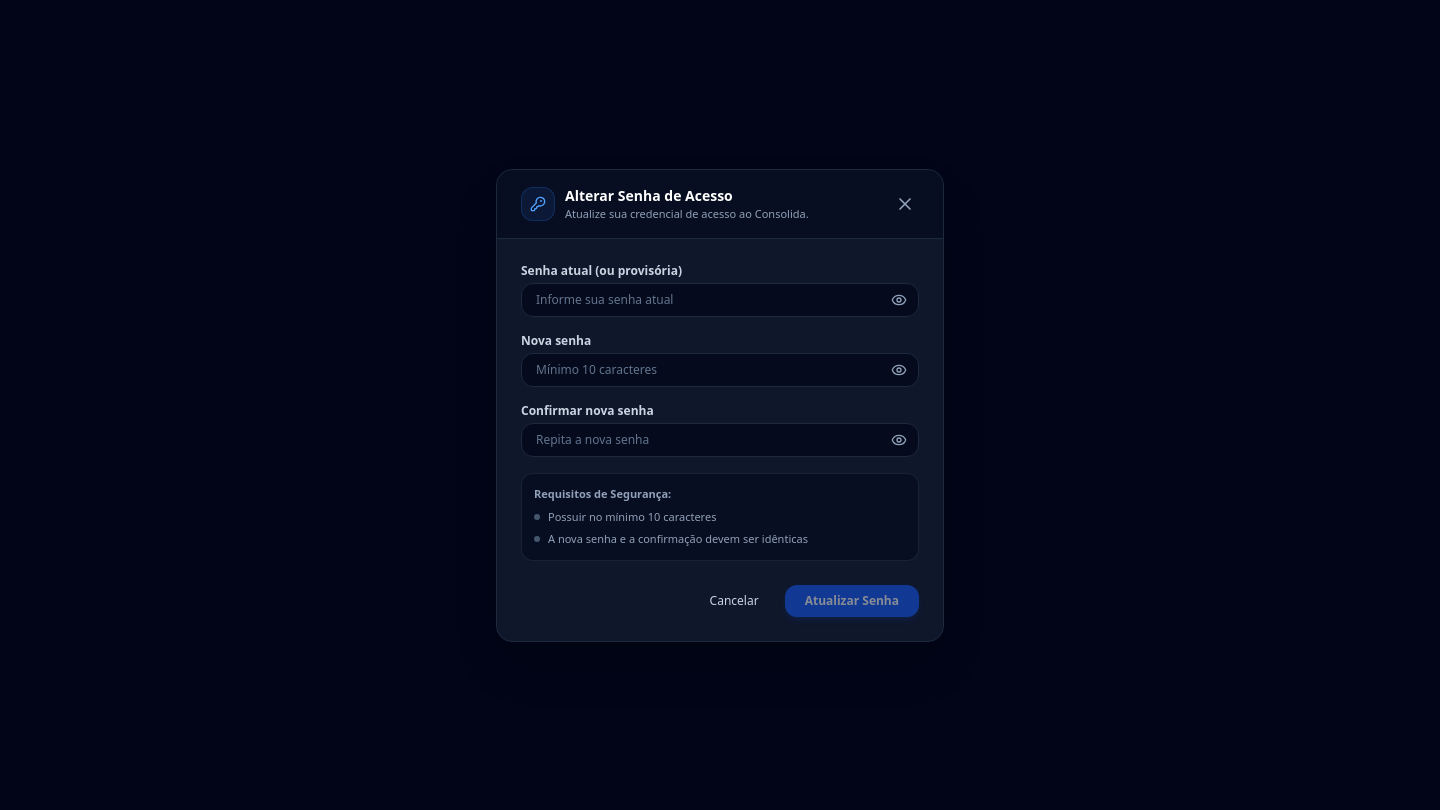
Test: Auditoria Técnica — Testes de Cenários Negativos (Seção 6) › 7. Cenário Negativo: Falha com senha atual incorreta na API deve exibir mensagem correspondente
This screenshot has width=1440, height=810.
In the password field with placeholder "Informe sua senha atual": (720, 300) [521, 283, 919, 317], type "senhaErrada123"
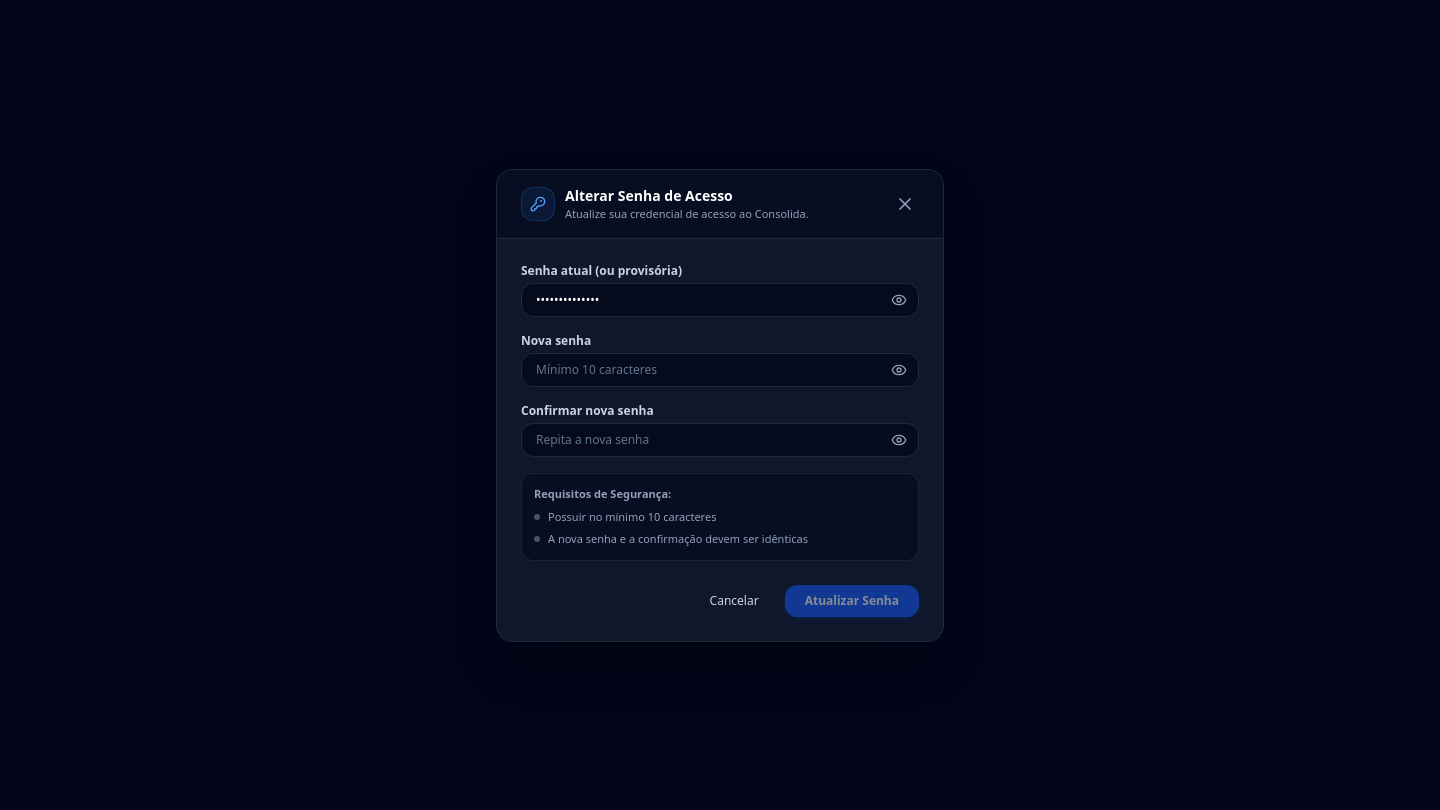
In the password field with placeholder "Mínimo 10 caracteres": (720, 370) [521, 353, 919, 387], type "NovaSenhaForte10!"
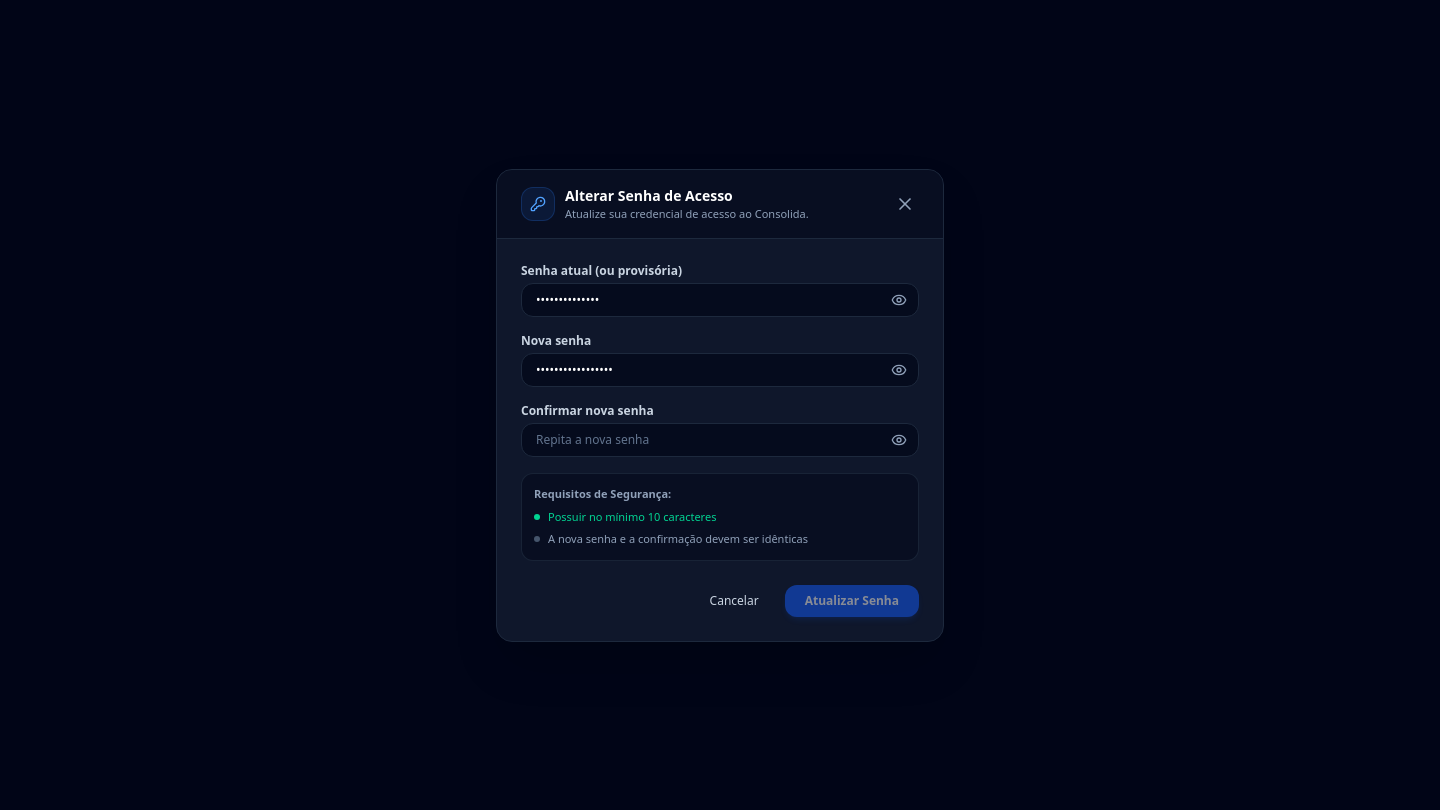
In the password field with placeholder "Repita a nova senha": (720, 440) [521, 423, 919, 457], type "NovaSenhaForte10!"
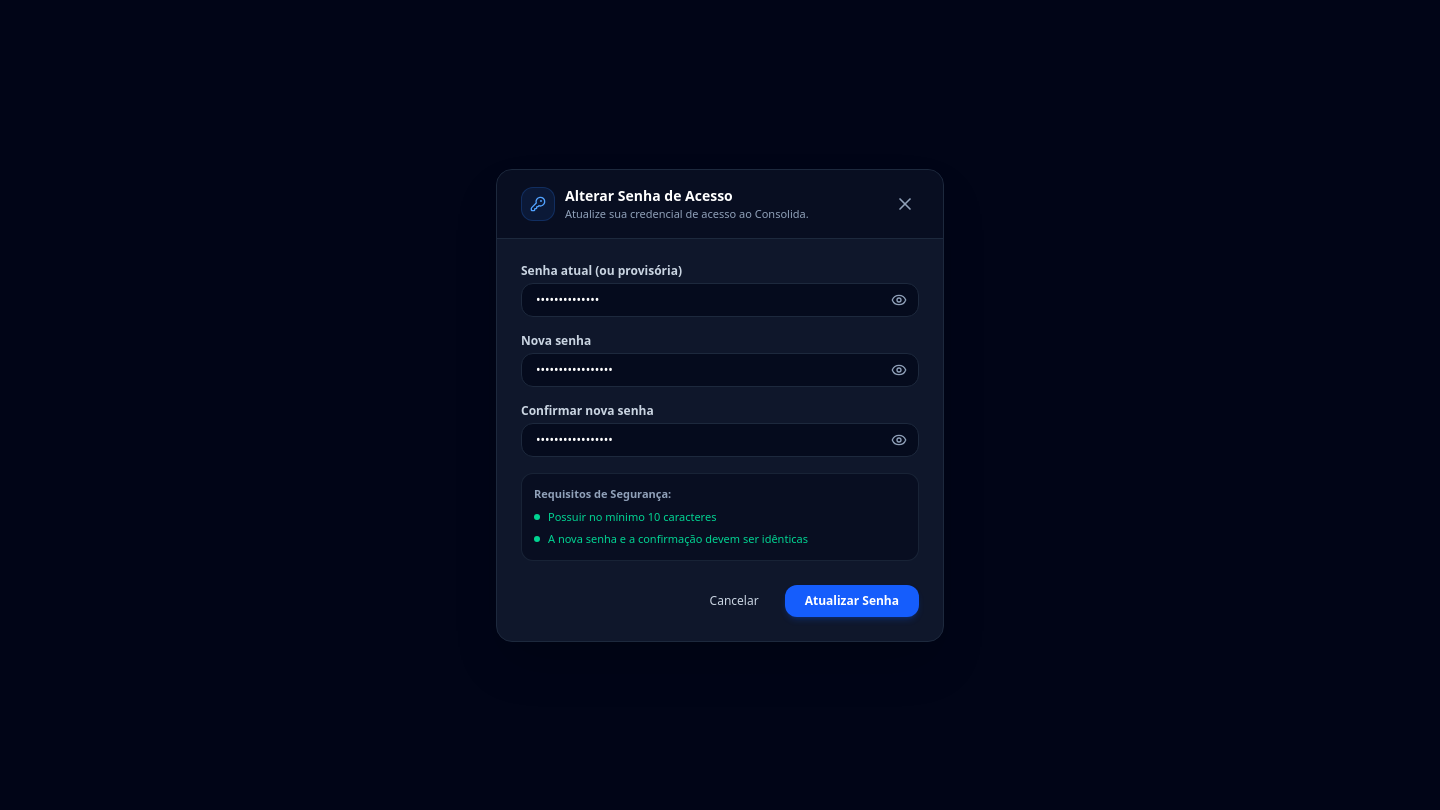
Click the button "Atualizar Senha": (852, 600) [785, 584, 919, 616]
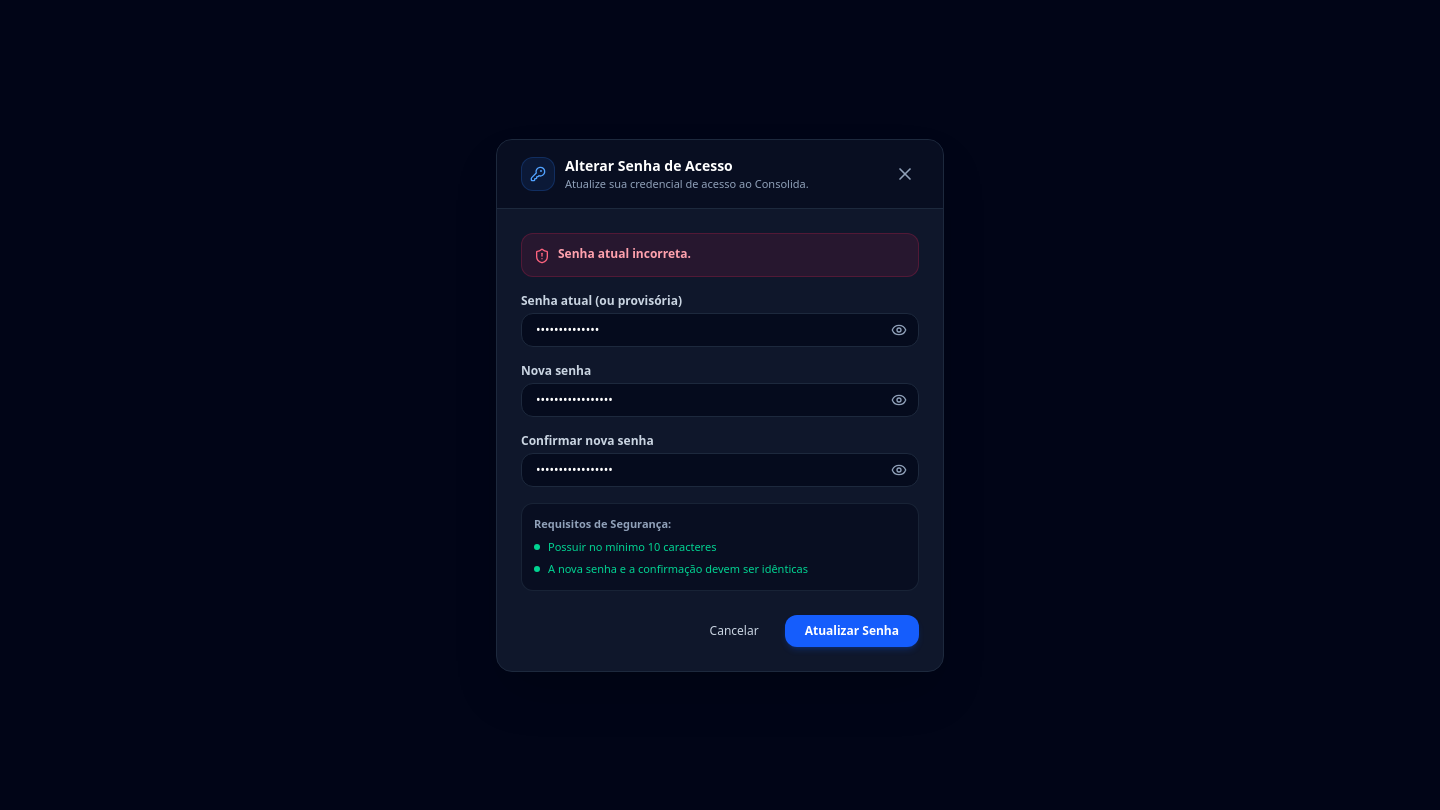
Expected: the text "Senha atual incorreta." is shown, [558, 246, 691, 262]
